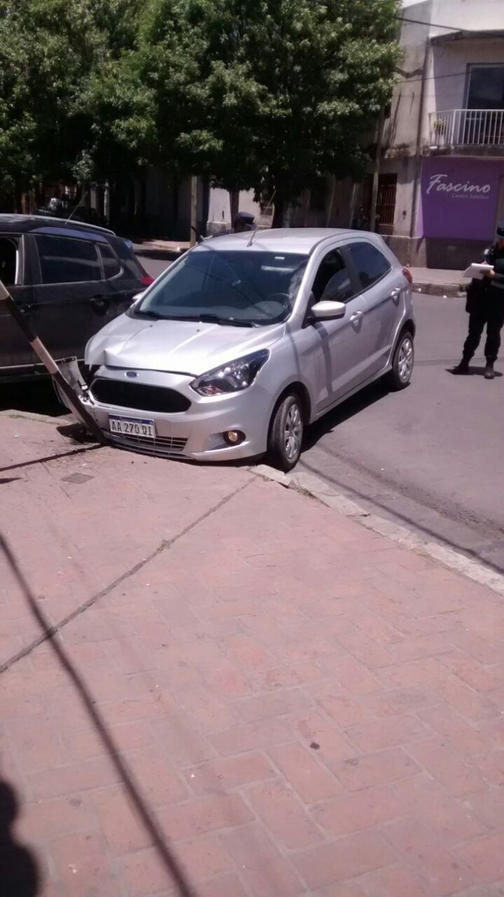car: (71, 226, 421, 468), (1, 212, 141, 388)
